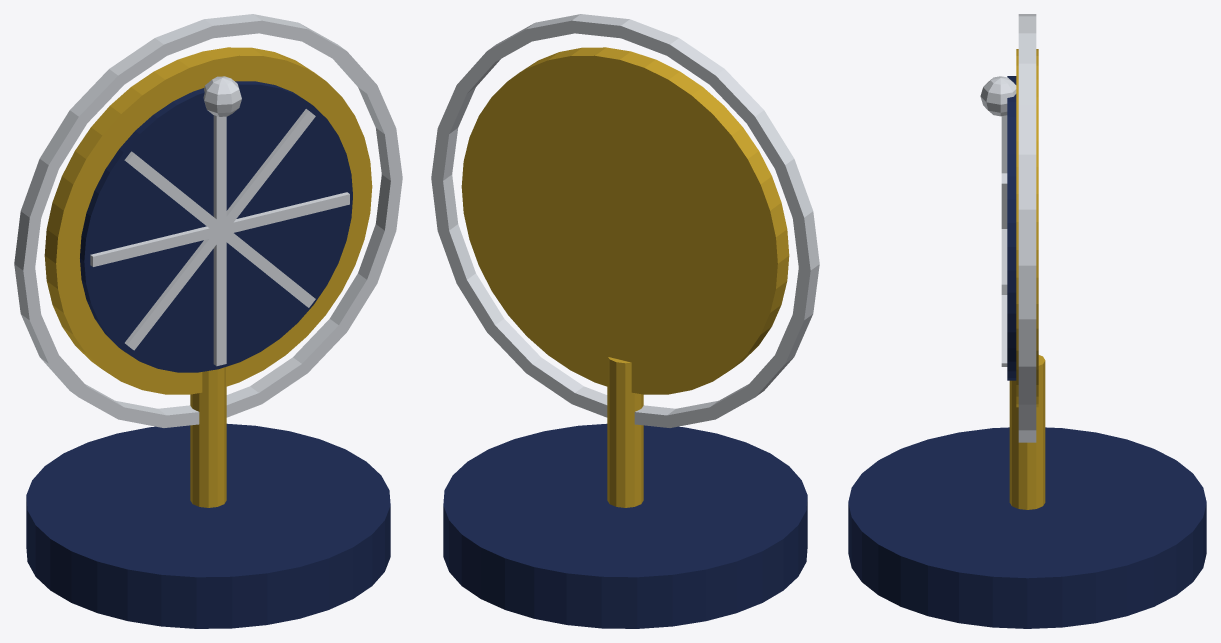
File: Astrolabe.fbx
3 renders of one model, left to right at view 1: azimuth 30°, elevation 25°; view 2: azimuth 150°, elevation 25°; view 3: azimuth 270°, elevation 25°, orthographic.
Visible parts, largest first — view 1: Stand, Plate, Mater, Ring, Rete, Post, Star; view 2: Mater, Stand, Ring, Post; view 3: Stand, Ring, Post, Plate, Mater, Rete, Star.
Boxes of the visible parts, <box> form: Stand: <box>26,423,390,628</box>; Plate: <box>80,81,352,372</box>; Mater: <box>44,47,372,394</box>; Ring: <box>14,14,402,427</box>; Rete: <box>90,109,349,366</box>; Post: <box>190,367,226,507</box>; Star: <box>203,76,241,116</box>; Mater: <box>461,47,789,394</box>; Stand: <box>443,423,807,628</box>; Ring: <box>431,14,819,427</box>; Post: <box>607,357,643,507</box>; Stand: <box>848,427,1206,628</box>; Ring: <box>1018,14,1036,442</box>; Post: <box>1009,355,1045,509</box>; Plate: <box>1007,76,1016,380</box>; Mater: <box>1016,49,1038,407</box>; Rete: <box>1001,115,1007,366</box>; Star: <box>980,76,1016,116</box>.
Size of the model in its own units: 1.92 by 2.56 by 1.6.
